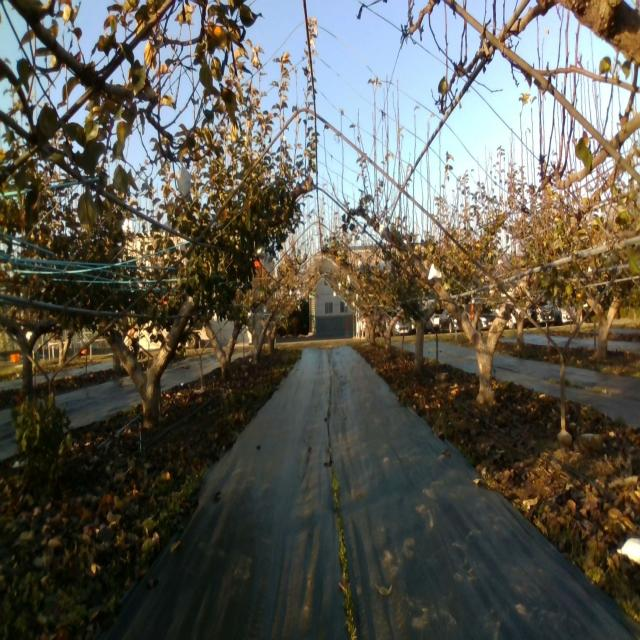pearbags: (176, 156, 191, 203)
